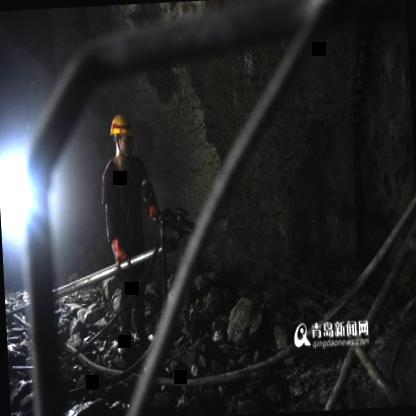helmet: (108, 109, 134, 157)
